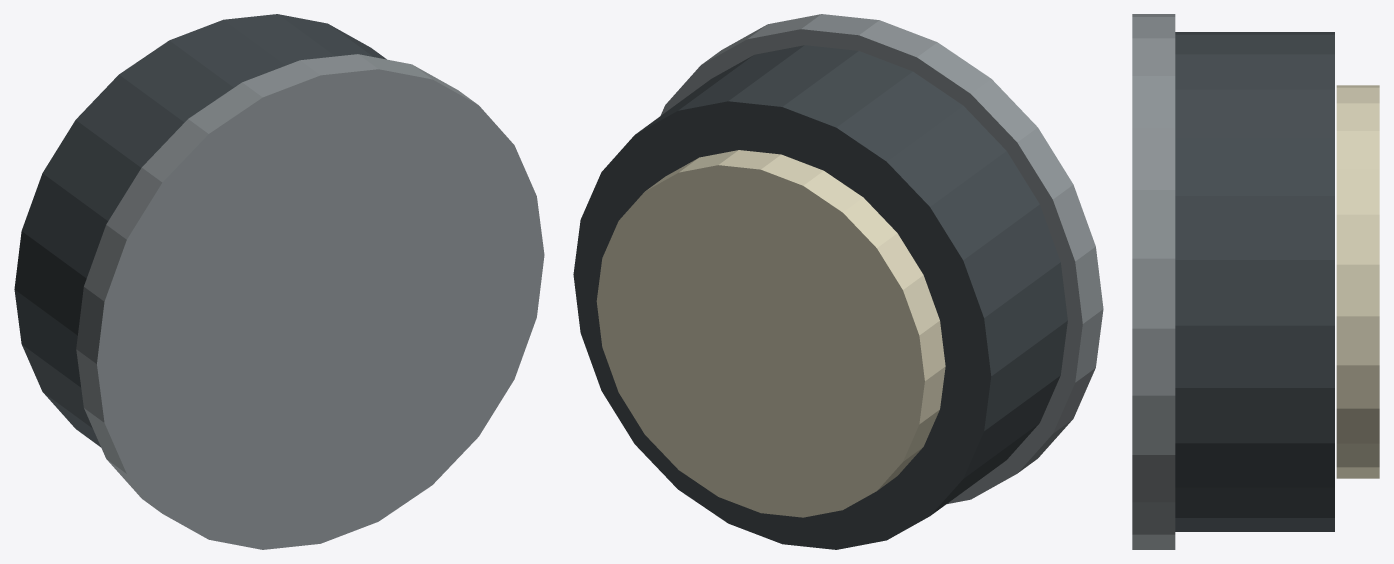
Rendered from spotlight.glb.
3 renders of one model, left to right at view 1: azimuth 30°, elevation 25°; view 2: azimuth 150°, elevation 25°; view 3: azimuth 270°, elevation 25°, orthographic. The views are drawn at different scales.
Visible parts, largest first — view 1: spot_trim, spot_body; view 2: spot_lens, spot_body, spot_trim; view 3: spot_body, spot_trim, spot_lens.
Part boxes in pixels (left/top/right/bottom): spot_trim: left=76, top=54, right=544, bottom=549; spot_body: left=14, top=14, right=386, bottom=447; spot_lens: left=596, top=150, right=945, bottom=517; spot_body: left=573, top=45, right=1067, bottom=549; spot_trim: left=660, top=14, right=1103, bottom=503; spot_body: left=1175, top=32, right=1334, bottom=531; spot_trim: left=1132, top=14, right=1175, bottom=549; spot_lens: left=1336, top=85, right=1379, bottom=478.
Size of the model in its own units: 0.15 by 0.15 by 0.069.
